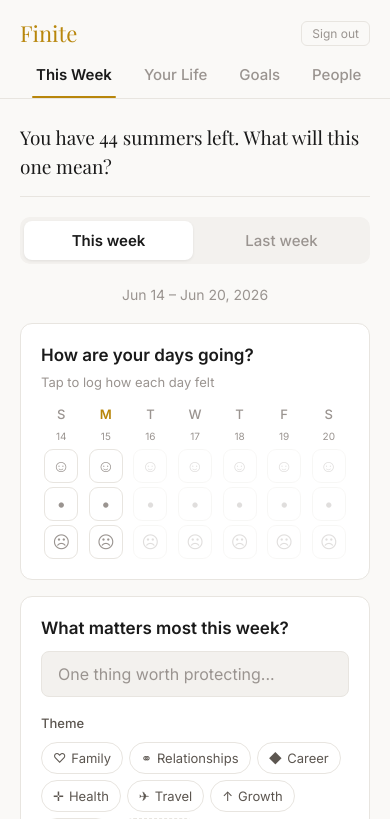
App — navigation › switches to Goals tab
The width and height of the screenshot is (390, 819).
Expected: the text "Finite" is shown, [20,16,78,51]
Click the button "Goals".
click(260, 75)  # box [223,51,296,98]
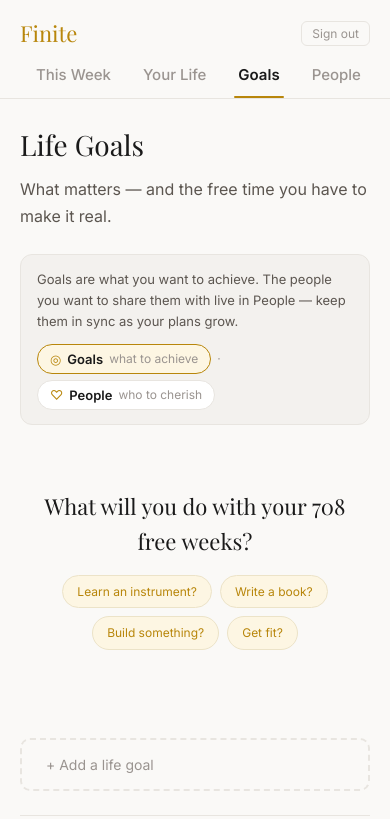
Now the heading "Life Goals" is shown, box [20,126,144,163]
